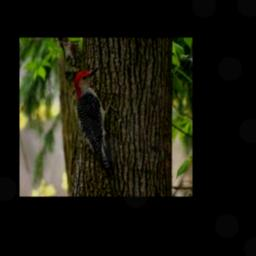Woodpecker: (74, 66, 116, 172)
